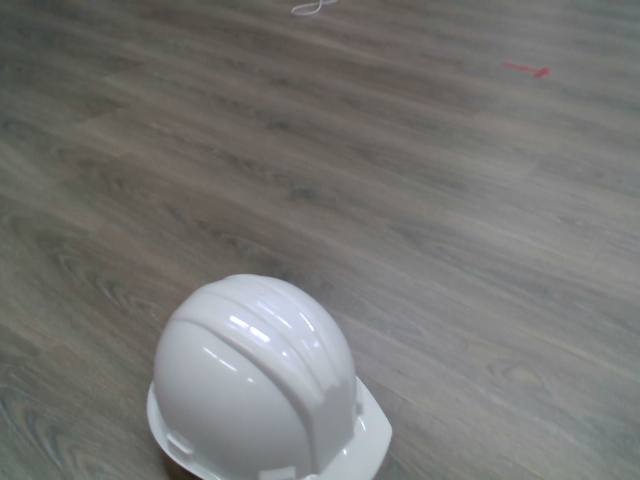helmet: (145, 269, 395, 480)
